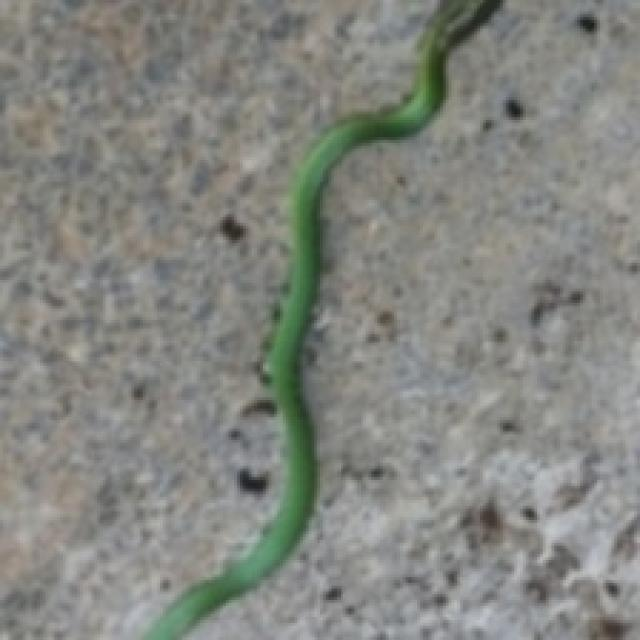red-tailed green ratsnake: (143, 0, 500, 637)
